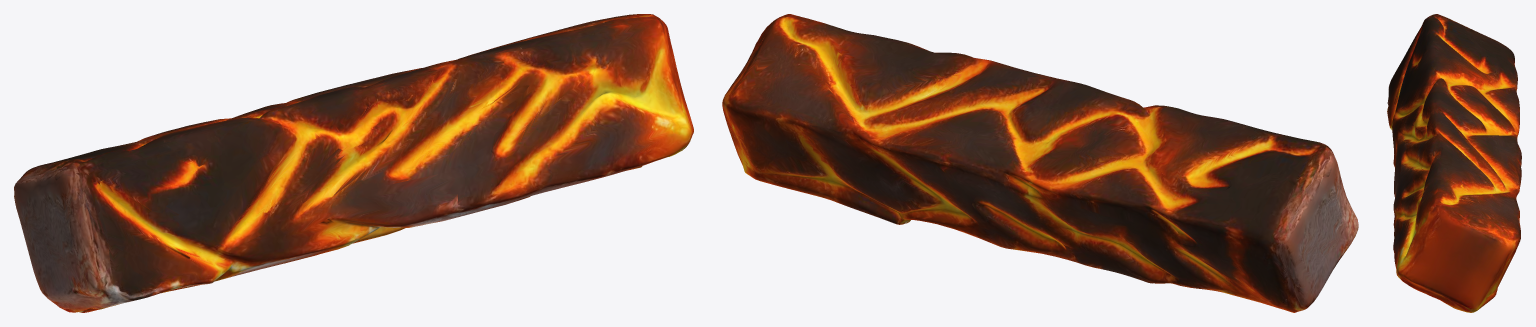
Rendered from blank_ingot_small.glb.
3 renders of one model, left to right at view 1: azimuth 30°, elevation 25°; view 2: azimuth 150°, elevation 25°; view 3: azimuth 270°, elevation 25°, orthographic. The views are drawn at different scales.
Visible parts, largest first — view 1: knife_mesh; view 2: knife_mesh; view 3: knife_mesh.
Part boxes in pixels (x1=…): knife_mesh: x1=14, y1=14, x2=693, y2=312; knife_mesh: x1=722, y1=14, x2=1358, y2=312; knife_mesh: x1=1387, y1=14, x2=1521, y2=312.
Bounding box in the file's own units: 1.17 × 0.3169 × 0.33.
Materials: 1 (1 with a texture image).
